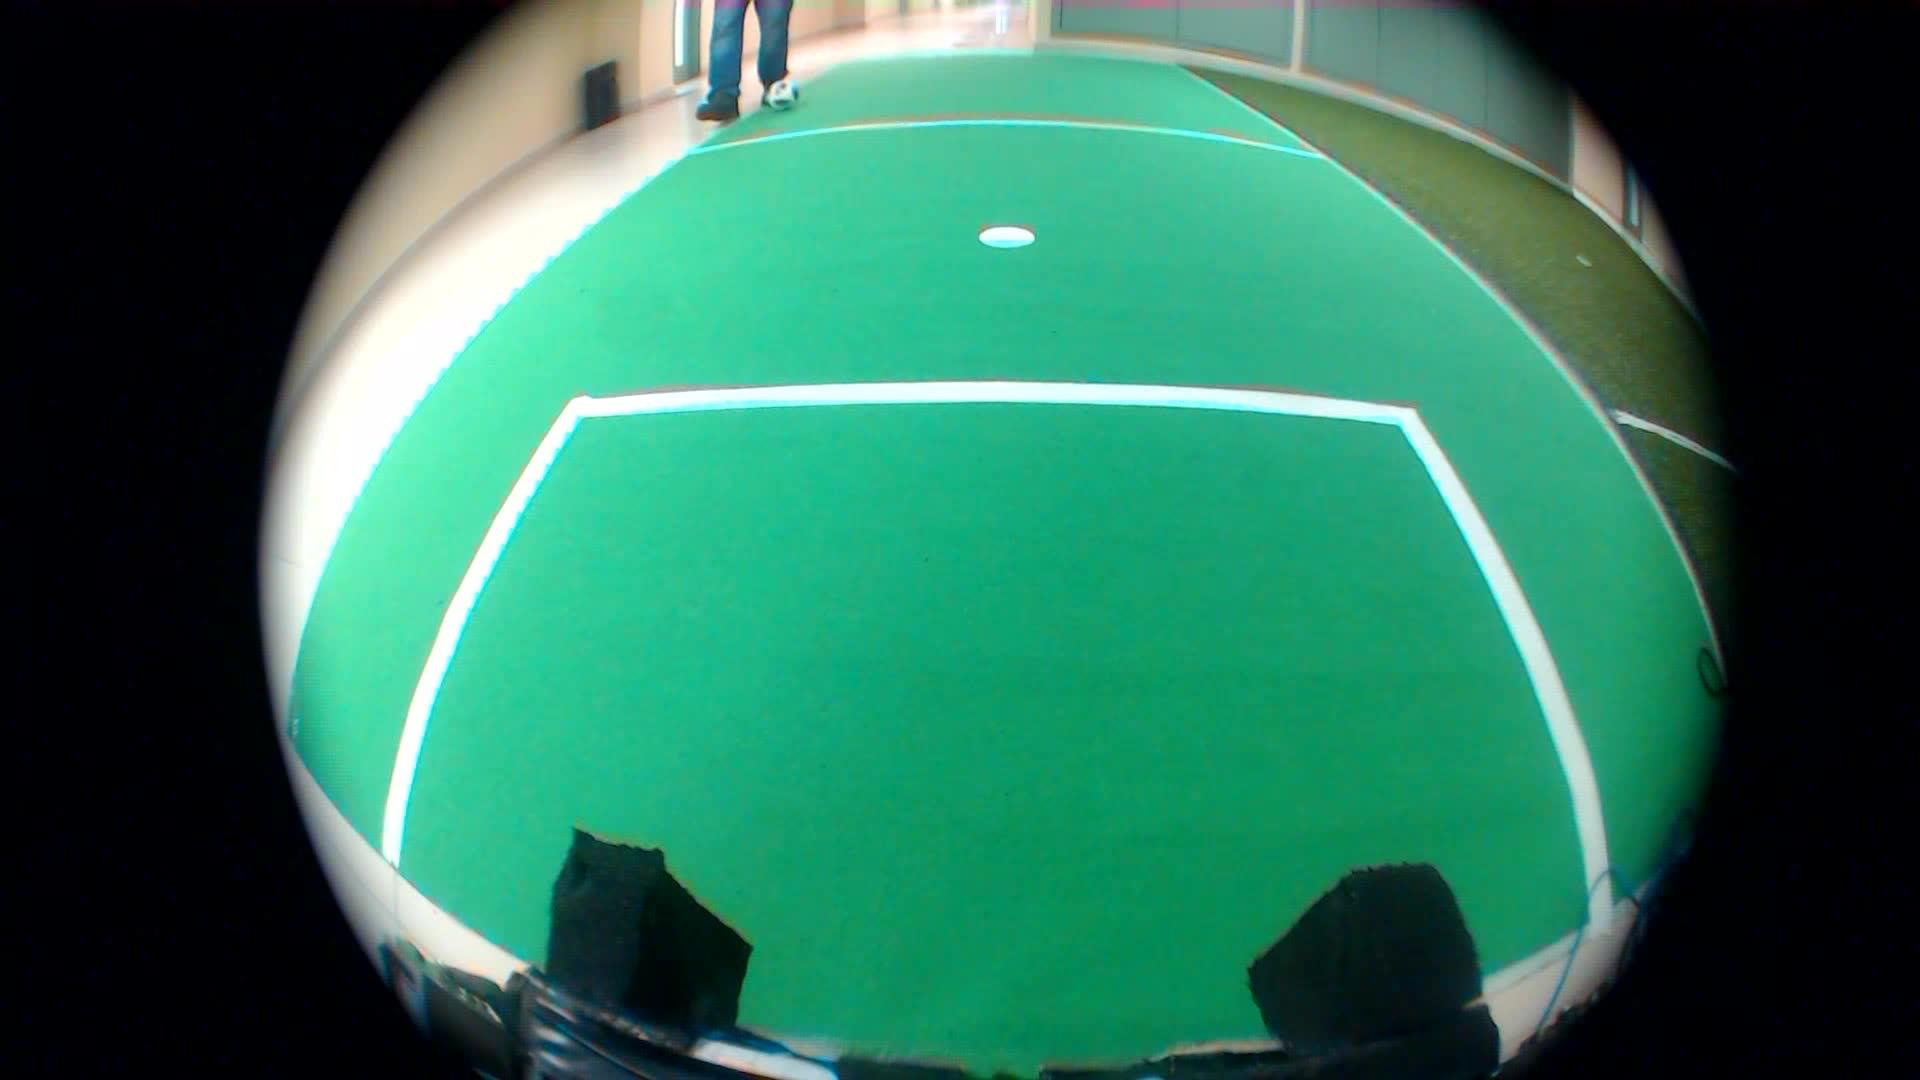ball: (758, 76, 806, 128)
